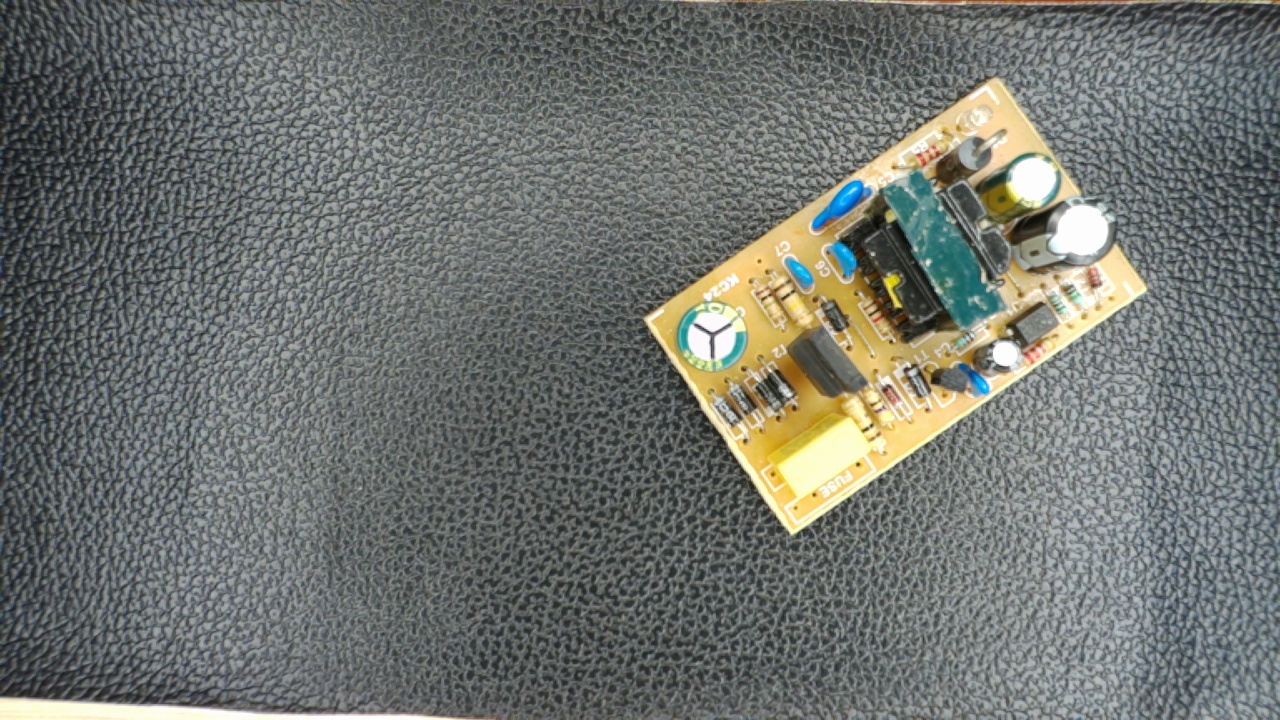hv_capacitor: (675, 300, 750, 375)
mov: (806, 182, 878, 233)
optocoupler: (1005, 296, 1061, 350)
